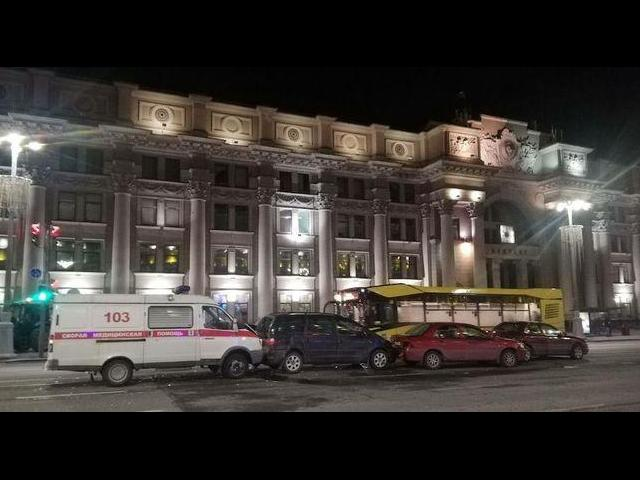bus: (324, 284, 566, 342)
